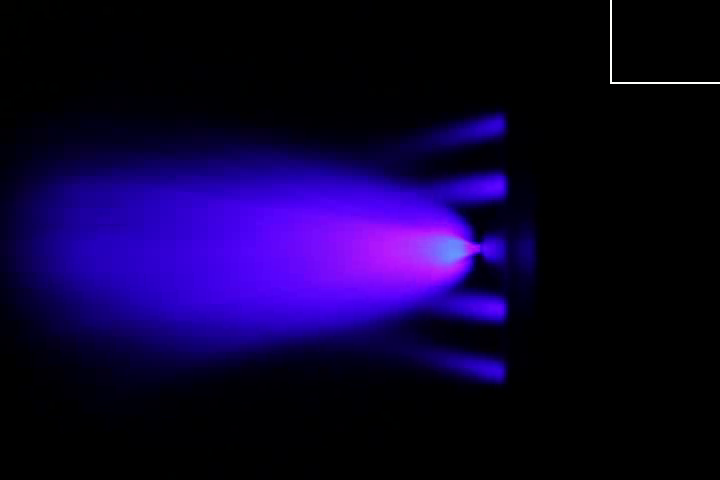burner cap: (480, 234, 504, 266)
pilot flame: (400, 106, 507, 148), (414, 348, 504, 385), (427, 169, 506, 205), (423, 293, 507, 322)
stable: (390, 220, 481, 288)
